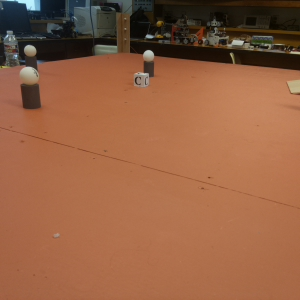blockC: (134, 73, 149, 88)
corner: (117, 14, 129, 54)
obstacle: (20, 67, 40, 108), (24, 44, 37, 72), (143, 50, 155, 77)
